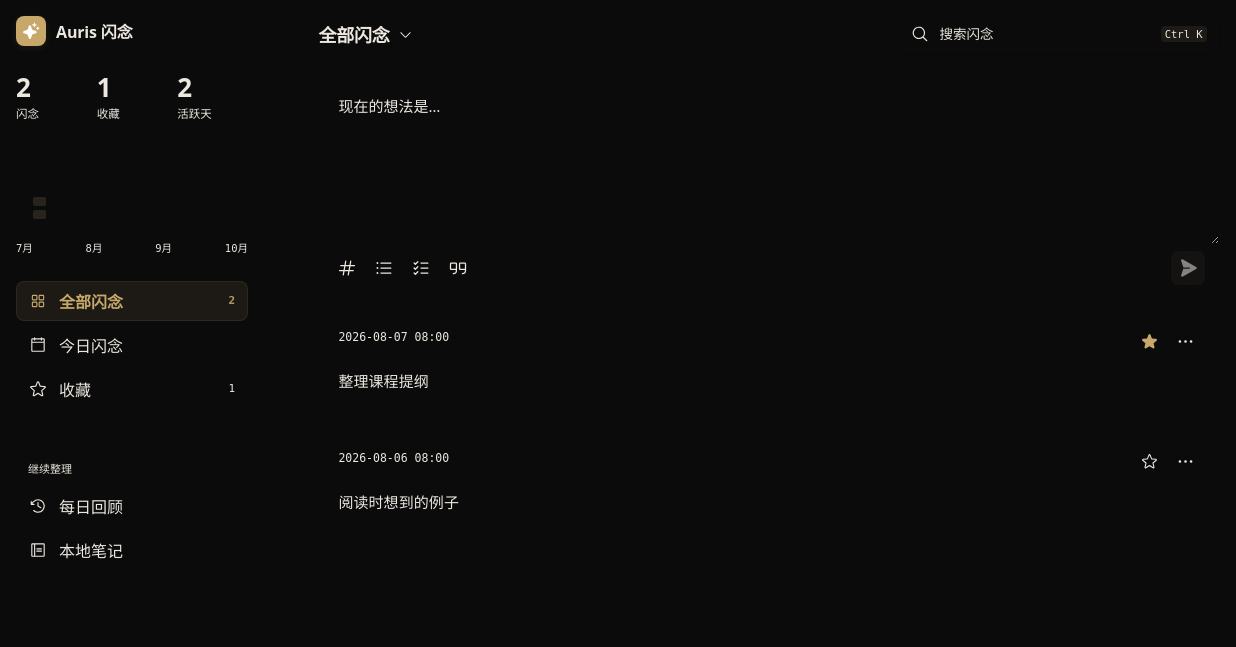
Test: FlashPageClient › saves a new flash with Ctrl+Enter and persists it
Step 1. Type "刚刚想到的新点子" into the text box named "记录一条闪念" → (768, 159), box [316,73,1219,244]
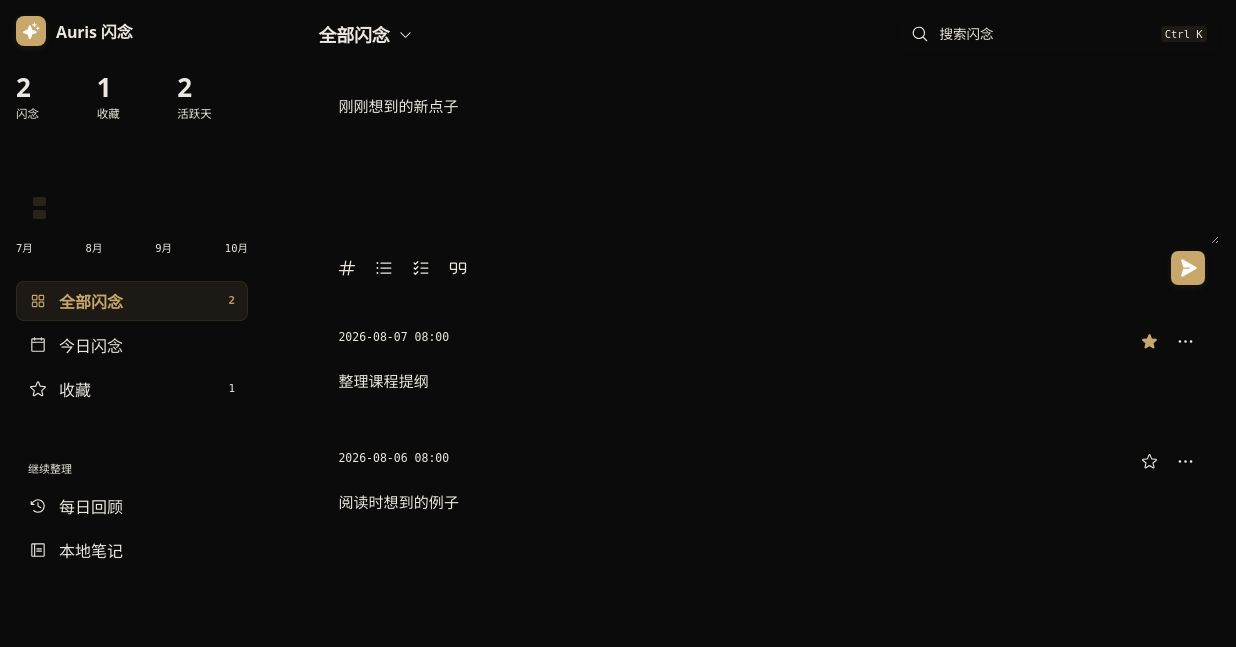
Step 2. Press Enter in the text box named "记录一条闪念", box [316,73,1219,244]
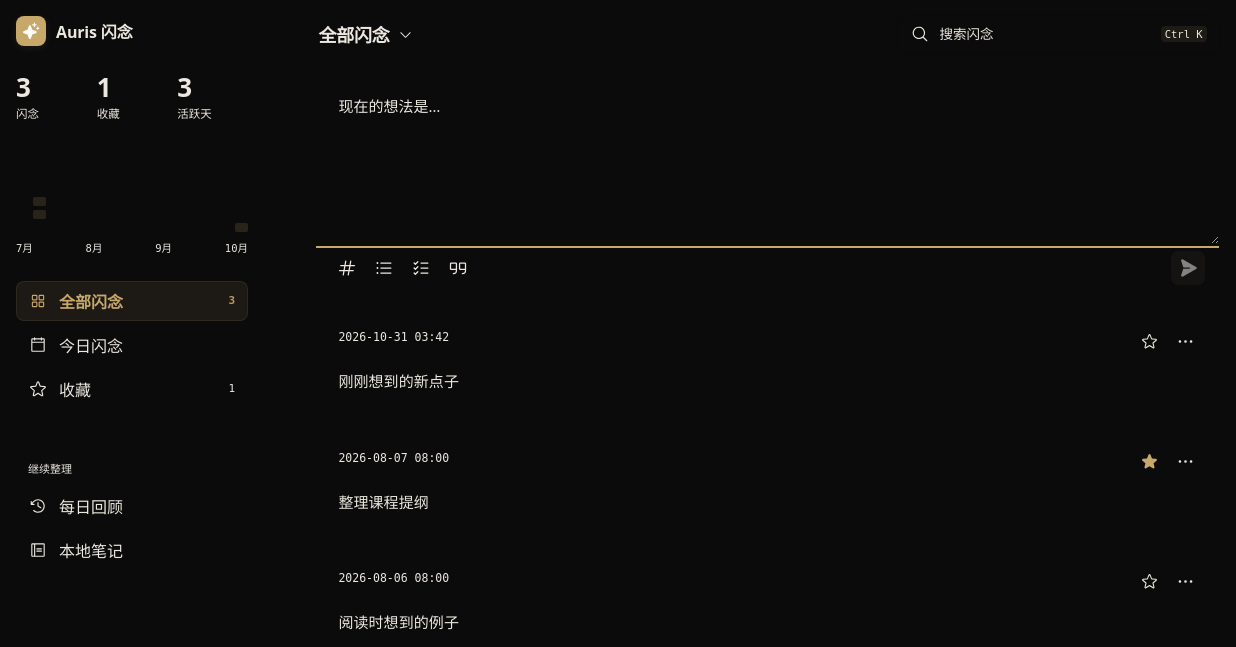
Now the text "刚刚想到的新点子" is shown, box [338,371,459,391]
